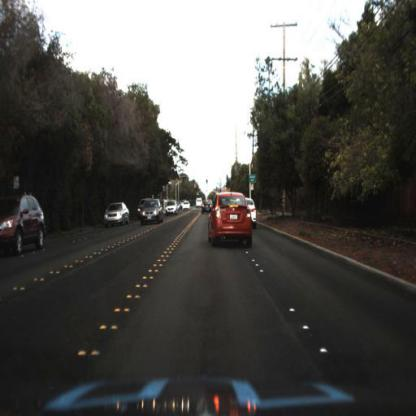car: (207, 188, 258, 252), (1, 193, 48, 256), (103, 198, 130, 232), (138, 197, 165, 228), (139, 199, 164, 225), (105, 204, 131, 225), (246, 197, 260, 226), (164, 199, 181, 217), (165, 199, 182, 217), (181, 198, 192, 214), (196, 194, 204, 210)
